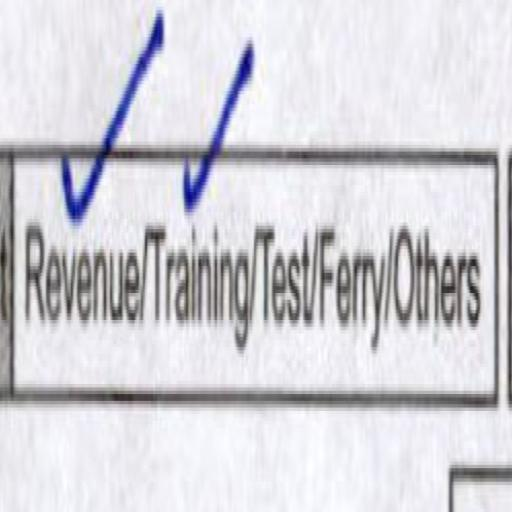check: (19, 92, 150, 474), (156, 27, 259, 451)
